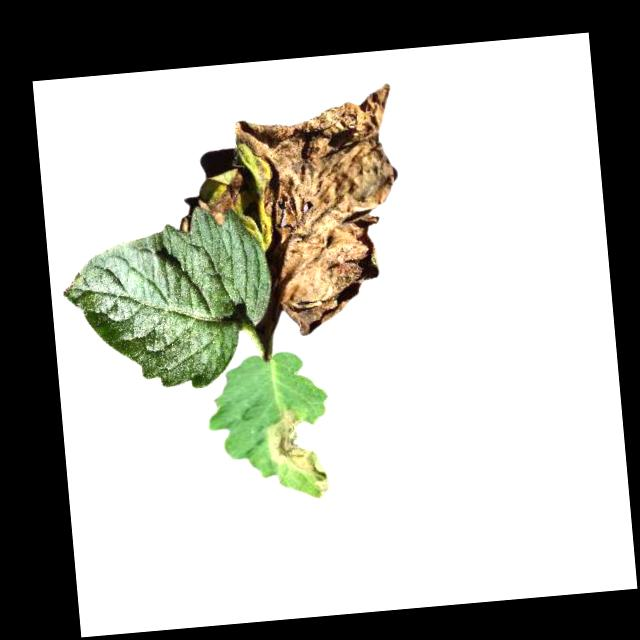Late_blight: (231, 80, 412, 339), (260, 402, 331, 504), (193, 169, 242, 227)
healthy: (55, 202, 278, 400)
